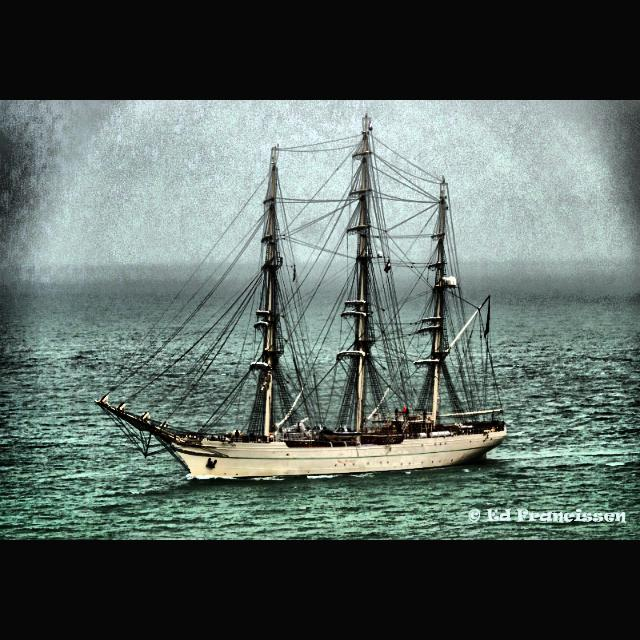sailing_vessel: (93, 112, 509, 484)
